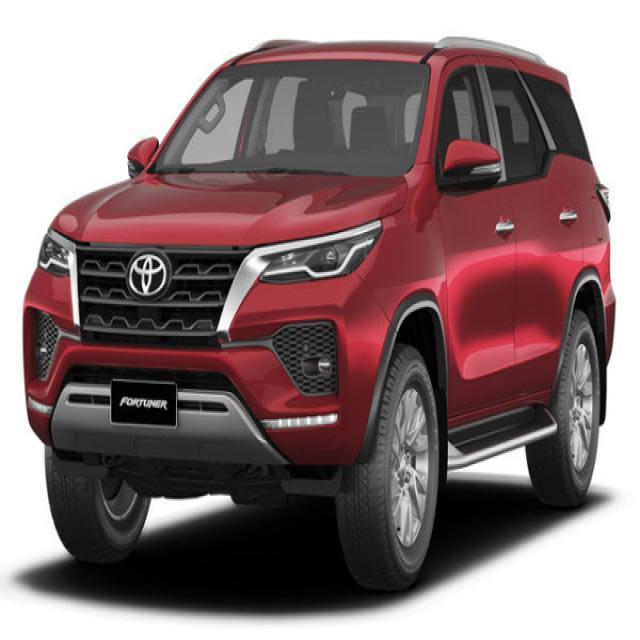light_vehicle: (22, 36, 616, 594)
